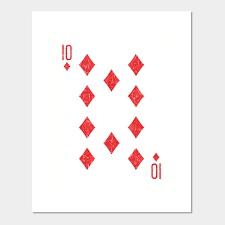ten of diamonds: (52, 35, 173, 190)
